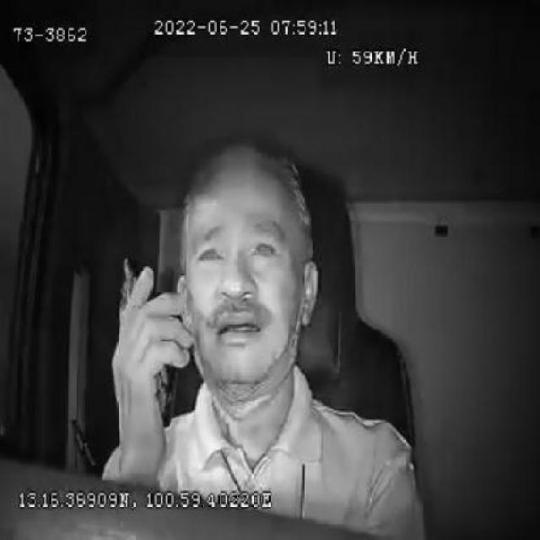phone: (116, 248, 176, 430)
